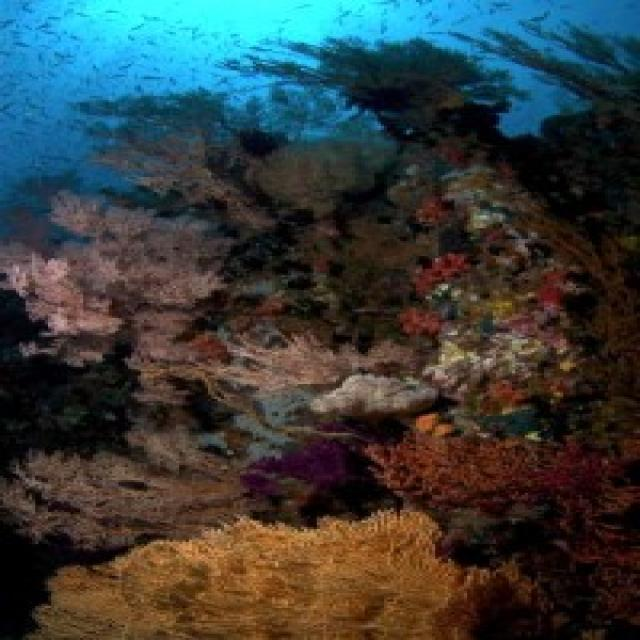Healthy: (84, 93, 471, 396), (411, 118, 638, 449), (369, 406, 638, 635), (126, 255, 436, 443), (30, 513, 491, 639), (1, 193, 222, 357), (1, 453, 247, 549), (190, 332, 382, 389)
